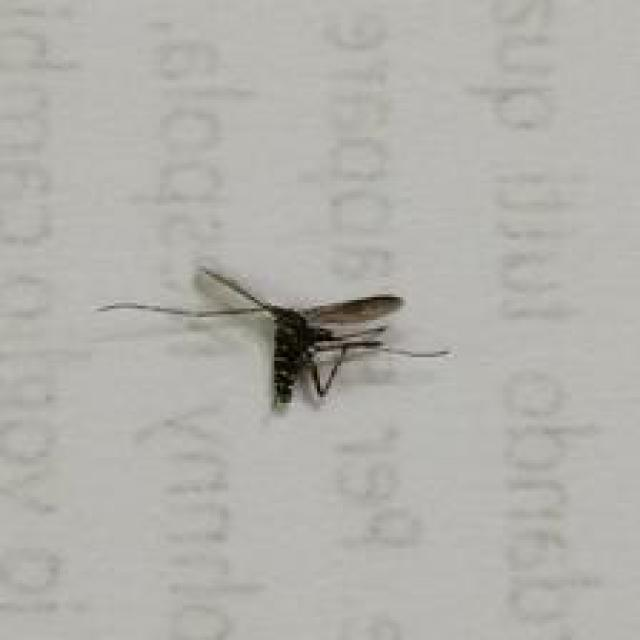Aedes albopictus: (96, 264, 450, 413)
